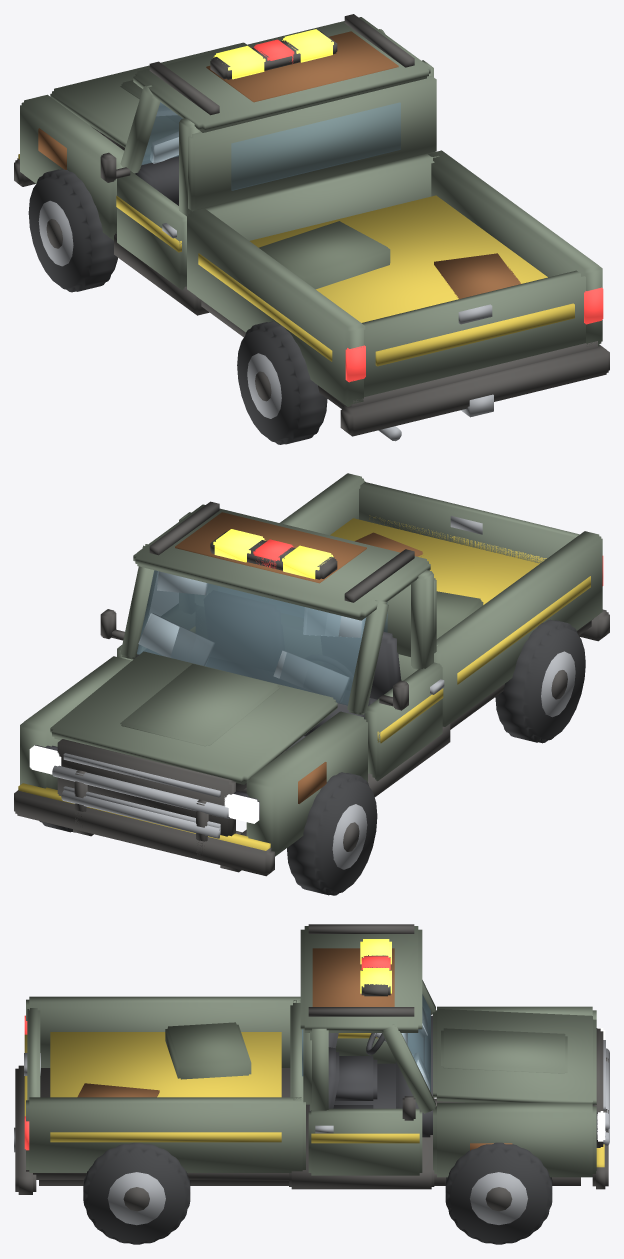
Rendered from pickup-wreck.glb.
The picture shows the model from 3 angles, top to bottom: view 1: azimuth 30°, elevation 25°; view 2: azimuth 150°, elevation 25°; view 3: azimuth 270°, elevation 25°; orthographic projection. The views are drawn at different scales.
Visible parts, largest first — view 1: Chassis, Cabin, Tailgate, Wheel_RL, Wheel_FL, Door_L, Hood, Lightbar, Windshield_Intact, Windshield_Shattered; view 2: Chassis, Cabin, Hood, Windshield_Intact, BullBar, Tailgate, Grille, Wheel_RL, Wheel_FL, Windshield_Shattered, Door_L, Lightbar (+3 smaller); view 3: Chassis, Cabin, Hood, Wheel_RR, Wheel_FR, Door_R, Lightbar, Tailgate, Windshield_Intact, Door_L, Grille, BullBar (+1 smaller).
Part boxes in pixels (x1,y1,x2,y2): Chassis: (20, 94, 609, 441); Cabin: (120, 14, 436, 216); Tailgate: (362, 270, 585, 396); Wheel_RL: (237, 321, 327, 444); Wheel_FL: (28, 169, 117, 292); Door_L: (100, 152, 186, 290); Hood: (50, 42, 246, 147); Lightbar: (210, 29, 337, 79); Windshield_Intact: (141, 102, 182, 164); Windshield_Shattered: (150, 102, 178, 163); Chassis: (20, 473, 609, 872); Cabin: (120, 501, 436, 714); Hood: (50, 651, 337, 784); Windshield_Intact: (137, 570, 366, 705); BullBar: (14, 765, 274, 876); Tailgate: (359, 482, 579, 563); Grille: (18, 739, 270, 850); Wheel_RL: (495, 619, 585, 743); Wheel_FL: (287, 772, 377, 895); Windshield_Shattered: (138, 571, 364, 702); Door_L: (364, 662, 444, 781); Lightbar: (210, 529, 337, 579); Chassis: (14, 996, 596, 1194); Cabin: (300, 924, 435, 1113); Hood: (433, 1009, 596, 1104); Wheel_RR: (83, 1142, 190, 1244); Wheel_FR: (445, 1142, 552, 1244); Door_R: (308, 1096, 422, 1175); Lightbar: (360, 939, 391, 996); Tailgate: (24, 1008, 40, 1116); Windshield_Intact: (402, 994, 430, 1092); Door_L: (336, 1033, 395, 1063); Grille: (592, 1028, 605, 1167); BullBar: (592, 1048, 609, 1189).
Bounding box in the file's own units: 2.3 × 1.88 × 4.51.
